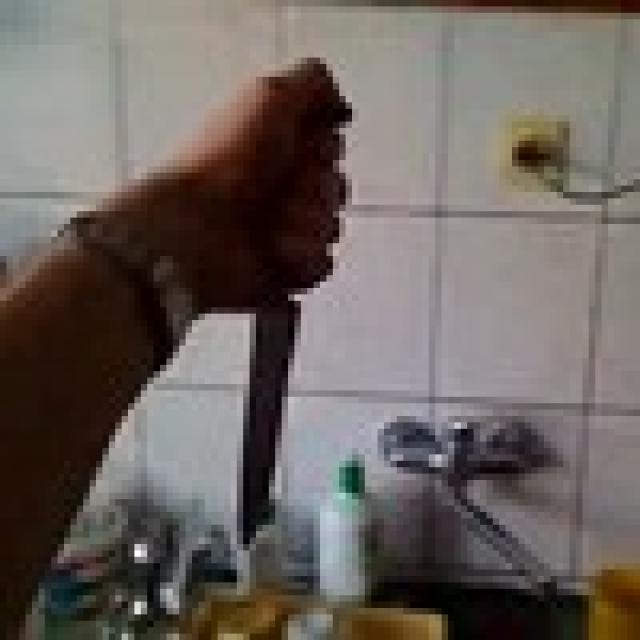weapon: (218, 64, 346, 544)
